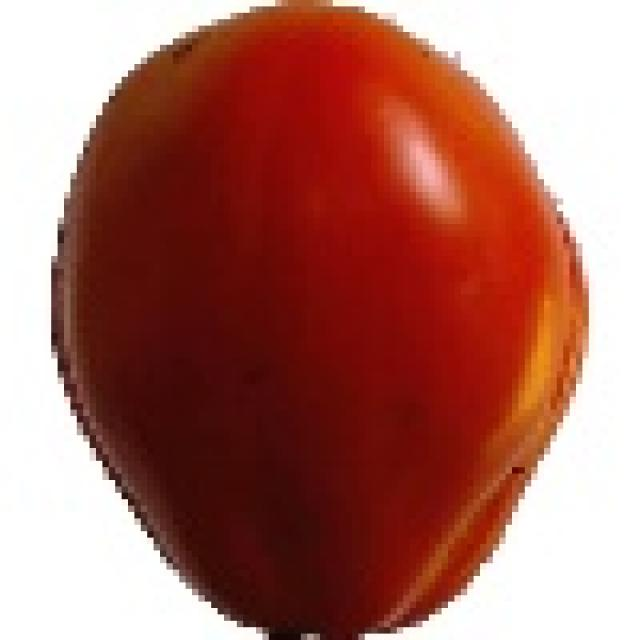tomato: (37, 0, 590, 640)
